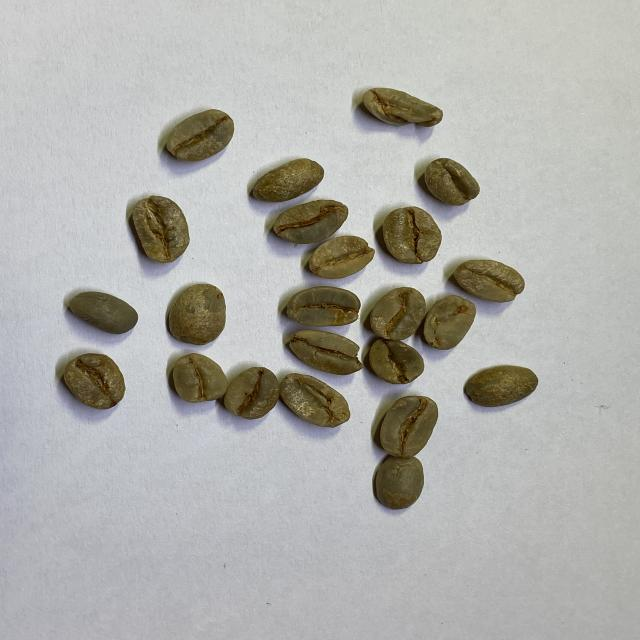bad: (361, 87, 444, 133), (281, 374, 351, 428), (423, 295, 476, 351)
good: (131, 195, 192, 263), (162, 107, 234, 163), (166, 281, 227, 345), (377, 394, 439, 456), (381, 206, 443, 265), (63, 353, 126, 410), (284, 328, 362, 374), (67, 289, 140, 336), (454, 258, 525, 305), (252, 158, 324, 204), (283, 285, 360, 327), (273, 201, 348, 244), (222, 365, 279, 420), (421, 157, 481, 209), (306, 236, 375, 280), (464, 365, 538, 406), (370, 287, 426, 341), (374, 455, 426, 510), (171, 354, 228, 402), (368, 340, 426, 385)
